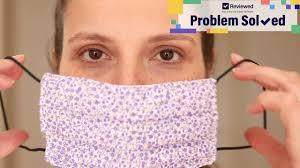Wore Mask Incorrectly: (9, 8, 273, 166)
